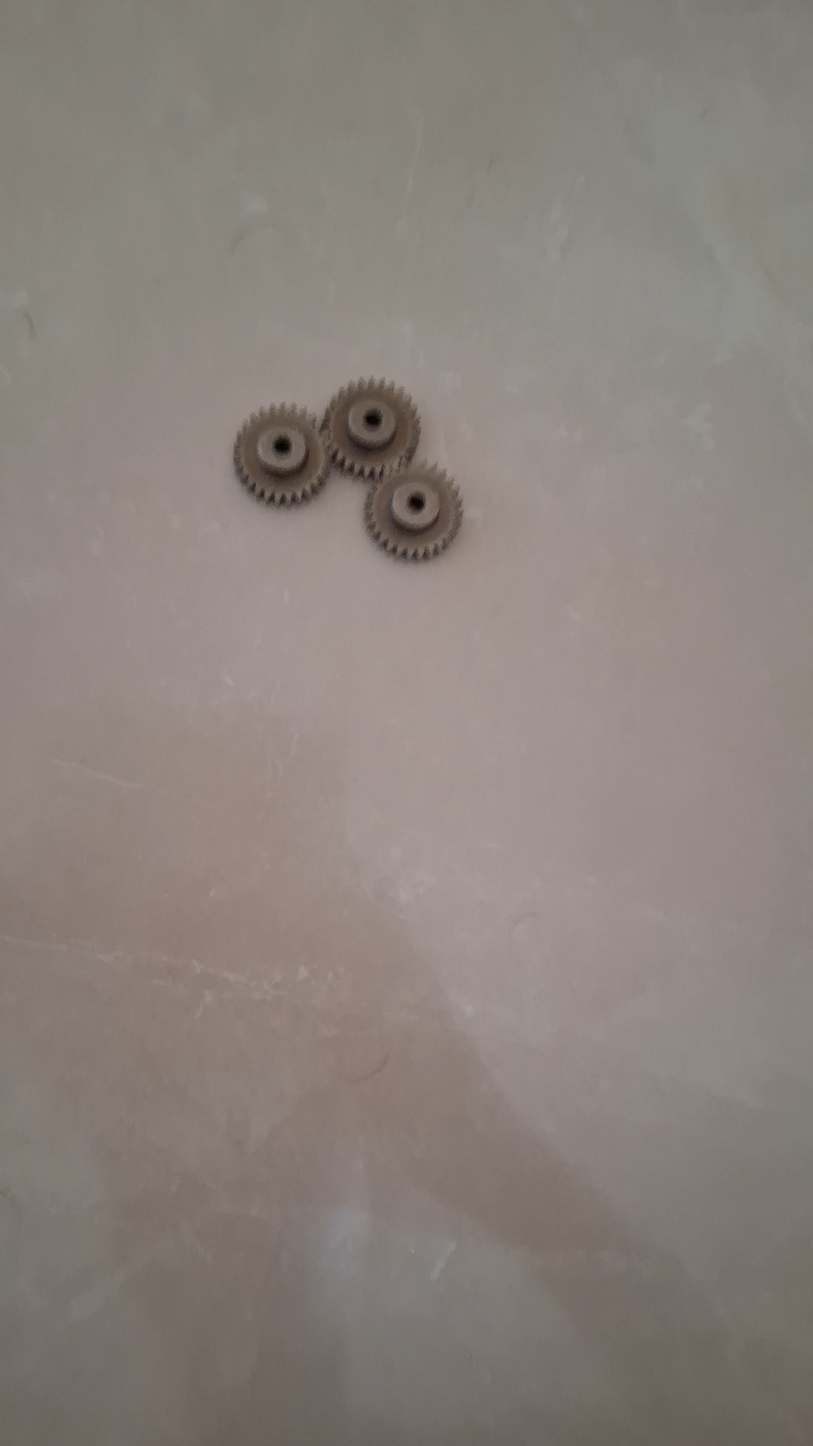spur gear: (323, 378, 419, 479), (234, 405, 329, 505), (365, 464, 462, 560)
